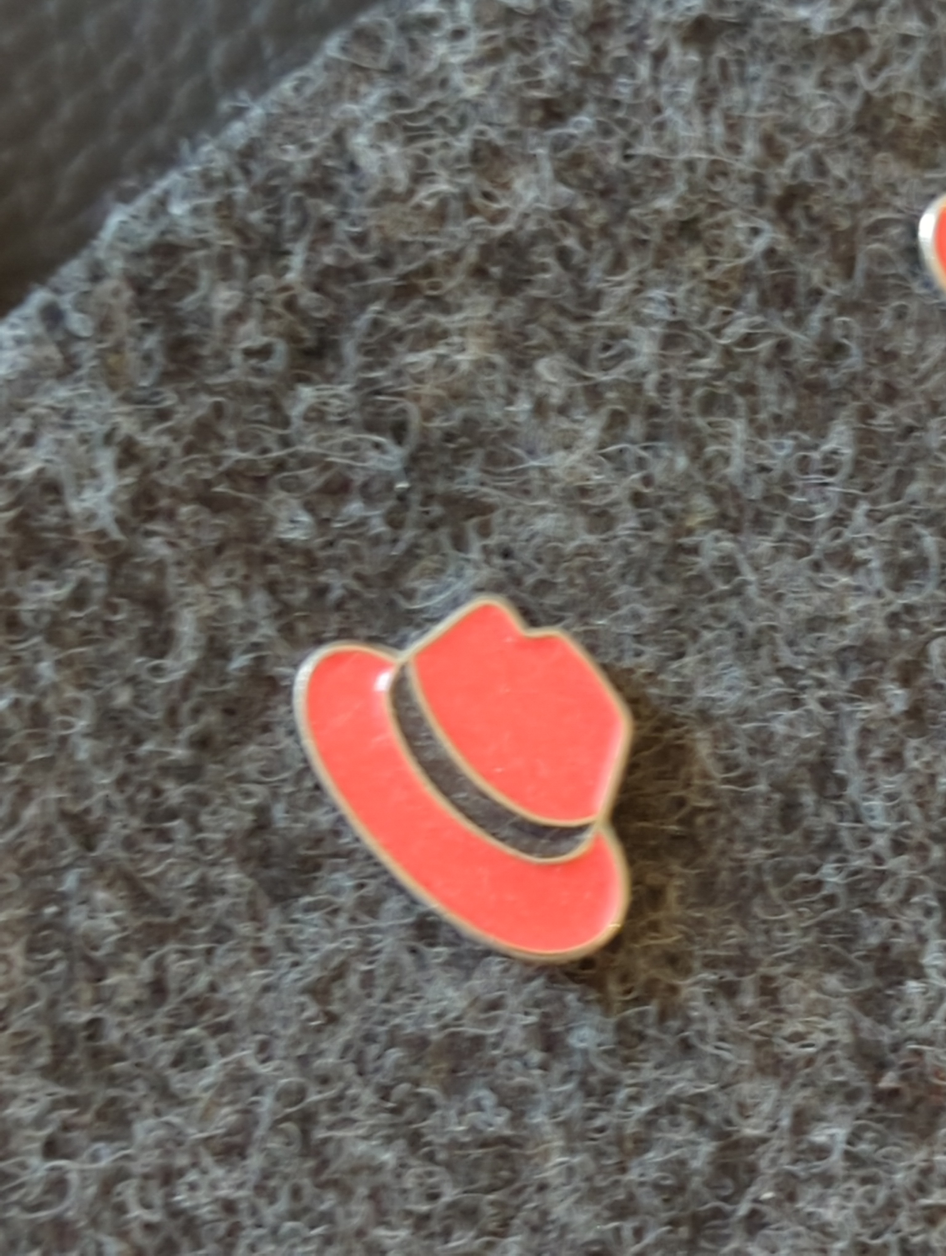Red-Hat: (223, 508, 806, 1063)
